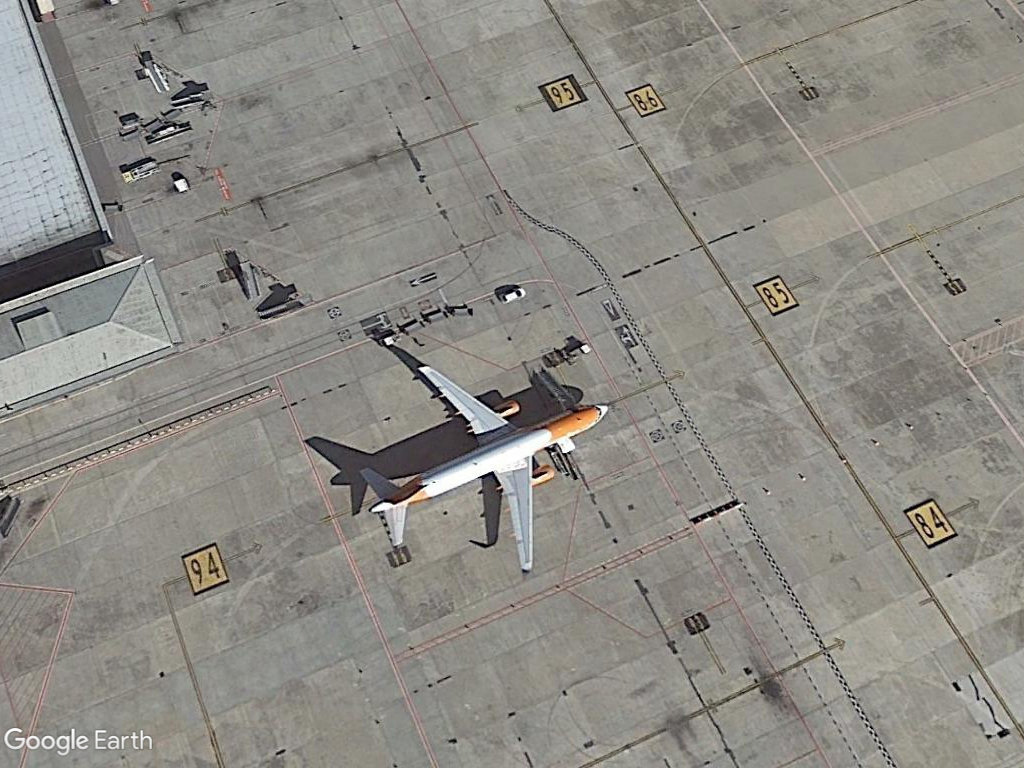airliner: (354, 360, 609, 587)
